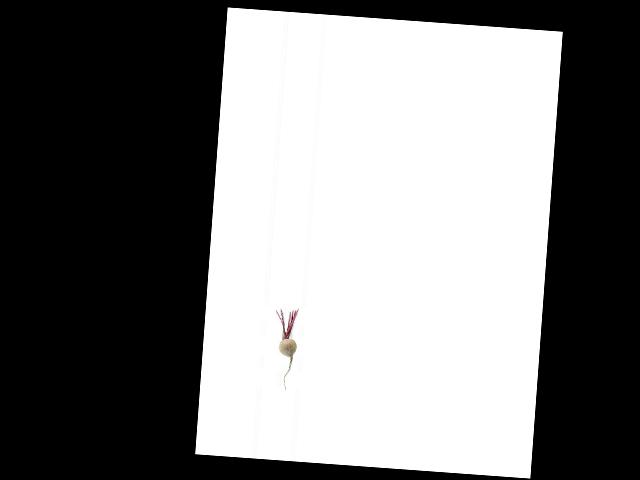beet: (271, 307, 299, 391)
